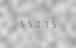five: (18, 19, 25, 27), (26, 19, 33, 27), (50, 20, 57, 28)
seven: (42, 20, 49, 28)
zero: (34, 19, 41, 28)
